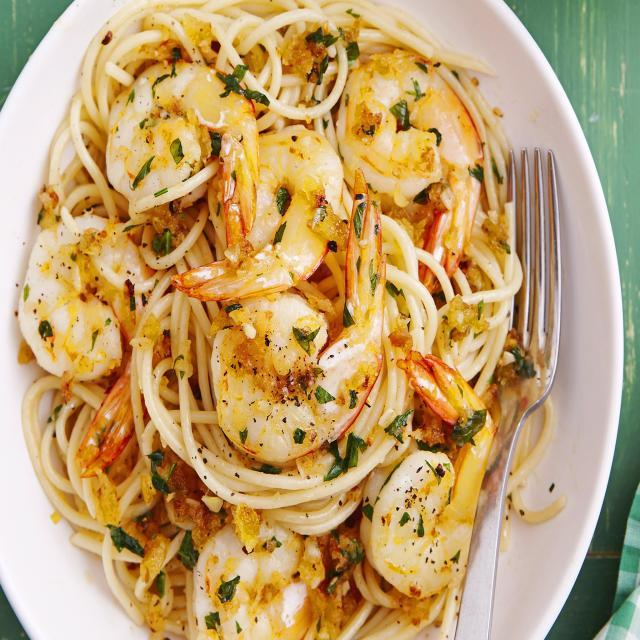Oil pasta: (30, 14, 554, 620)
